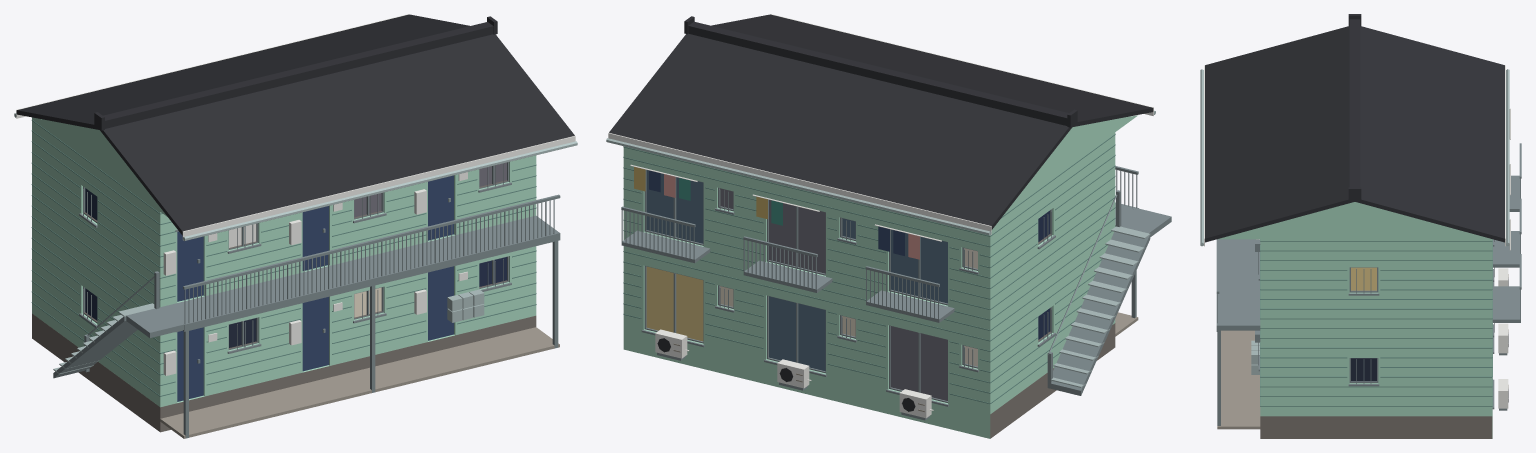
The model's file is tb_wooden_apartment_2f_01_c.fbx.
3 views of the same model, side by side, from view 1: azimuth 30°, elevation 25°; view 2: azimuth 150°, elevation 25°; view 3: azimuth 270°, elevation 25° (orthographic). The views are drawn at different scales.
Visible parts, largest first — view 1: tb_wooden_apartment_2f_01_c; view 2: tb_wooden_apartment_2f_01_c; view 3: tb_wooden_apartment_2f_01_c.
Boxes of the visible parts, left/top/right/bottom form: tb_wooden_apartment_2f_01_c: left=14, top=14, right=577, bottom=438; tb_wooden_apartment_2f_01_c: left=606, top=14, right=1171, bottom=438; tb_wooden_apartment_2f_01_c: left=1200, top=14, right=1521, bottom=438.
Size of what is drawn, in the model's own units: 12.35 by 7.86 by 9.
Materials: 2 (2 with a texture image).
